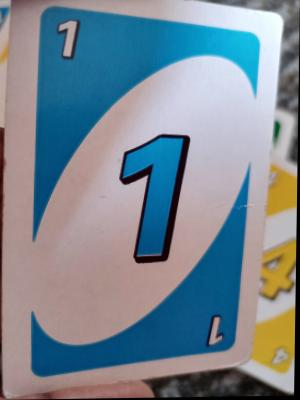blue: (30, 14, 247, 368)
num_1: (45, 17, 88, 67), (203, 311, 232, 349)
